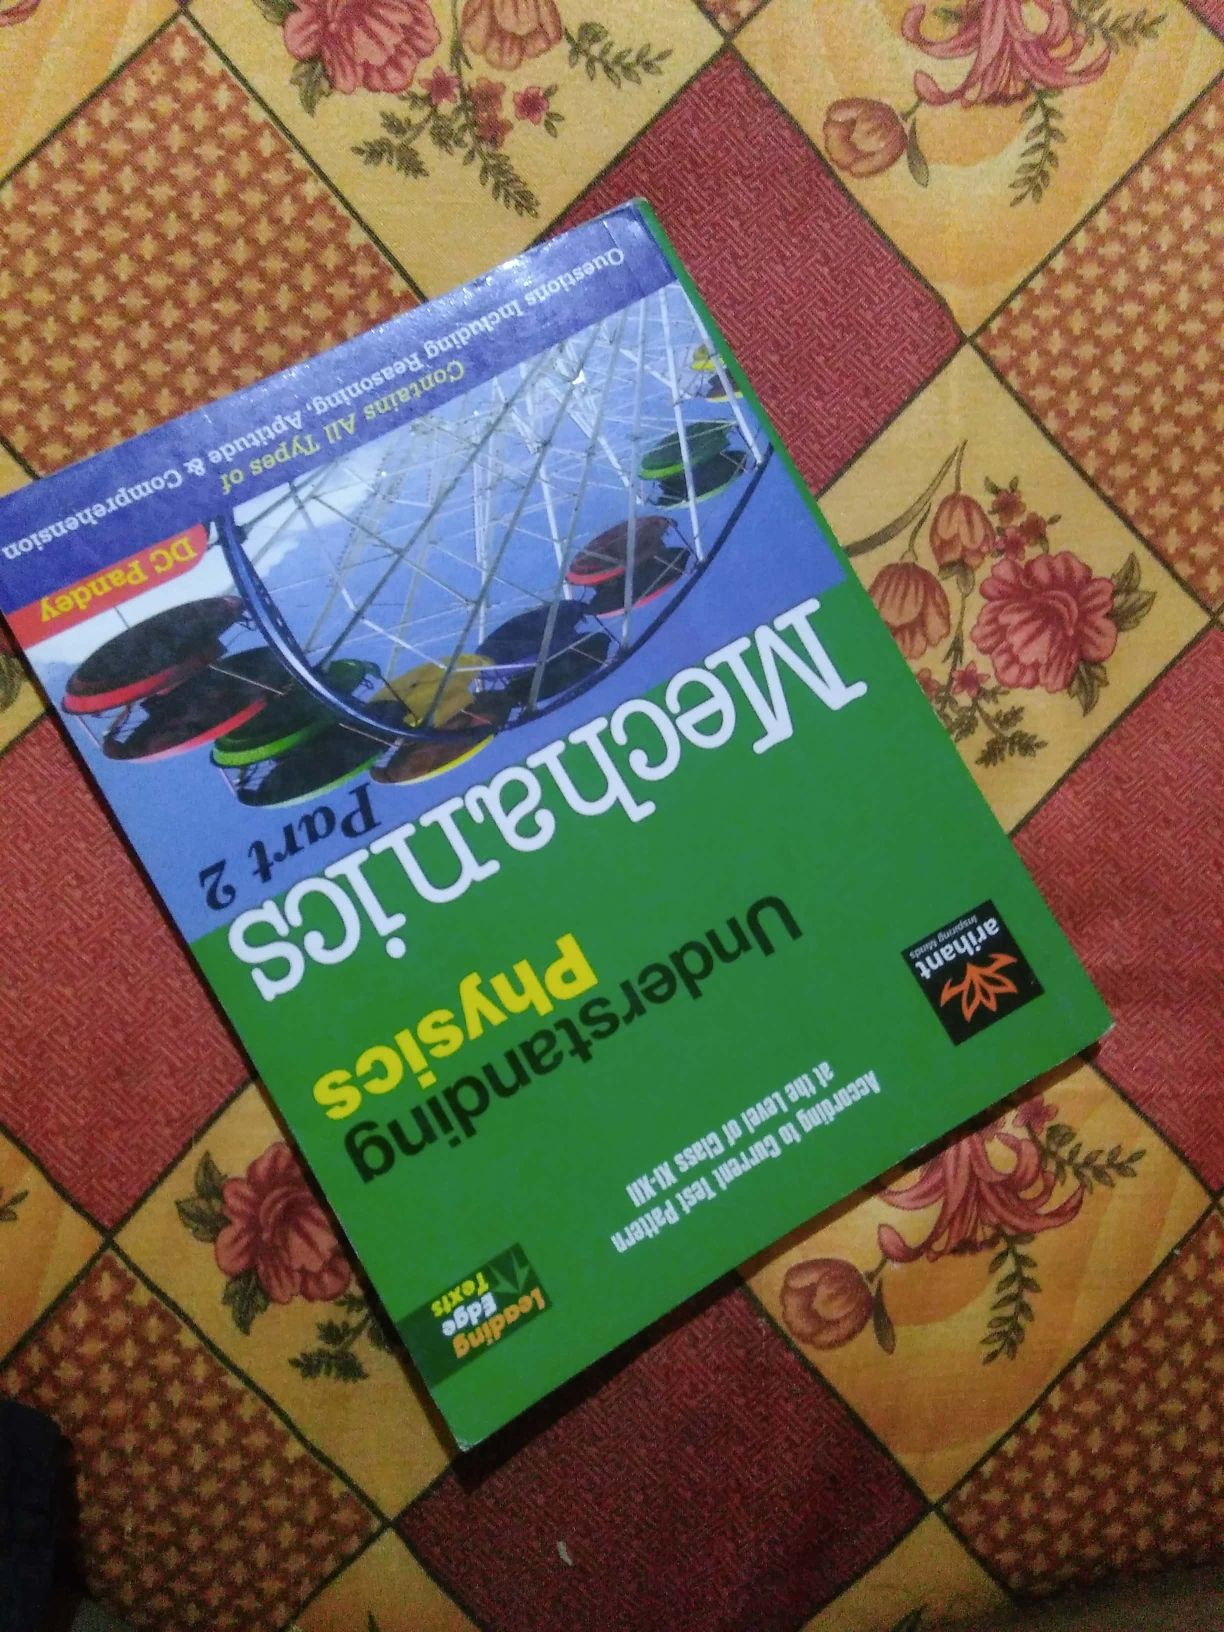mechanics: (5, 297, 1093, 1415)
